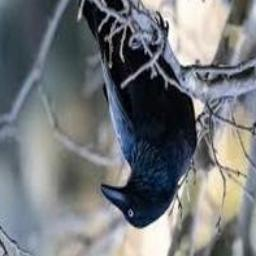Crow: (78, 0, 198, 229)
